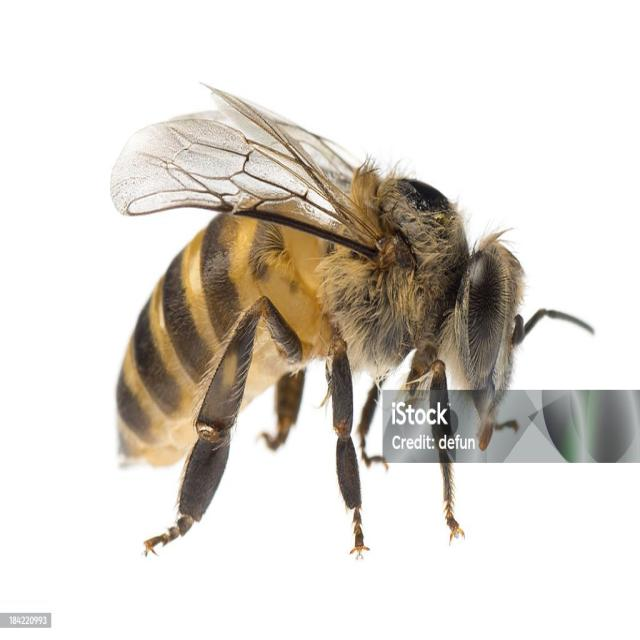bee: (109, 80, 596, 558)
